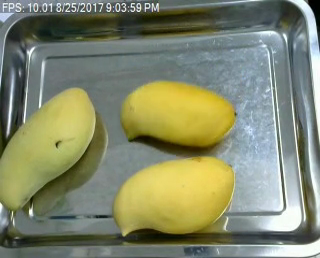Mango: (0, 85, 96, 209), (112, 153, 236, 236), (122, 80, 237, 147)
